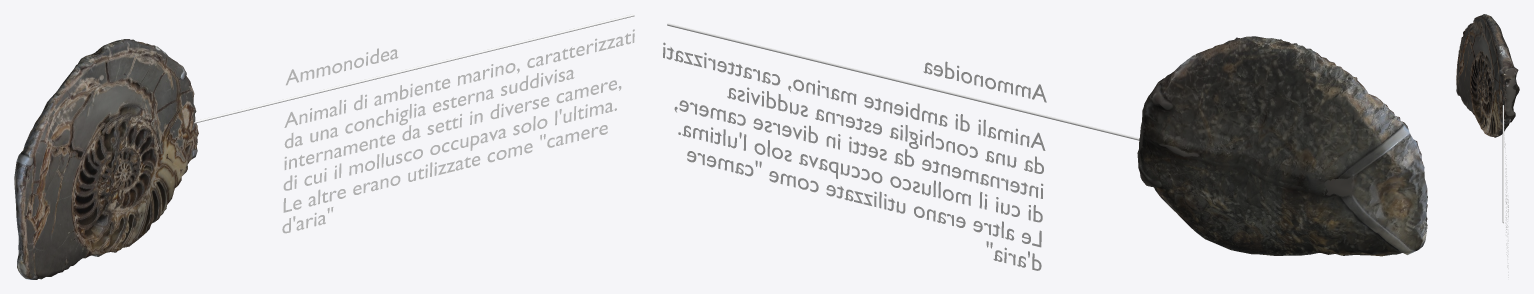
File: Fossile1.gltf
The picture shows the model from 3 angles, left to right: view 1: azimuth 30°, elevation 25°; view 2: azimuth 150°, elevation 25°; view 3: azimuth 270°, elevation 25°; orthographic projection. The views are drawn at different scales.
Visible parts, largest first — view 1: fossil08, Text, riga; view 2: fossil08, Text, riga; view 3: fossil08, riga, Text.
Part boxes in pixels (x1,y1,x2,y2): fossil08: (14,39,198,279); Text: (282,29,634,233); riga: (194,14,634,123); fossil08: (1137,36,1427,256); Text: (663,42,1046,270); riga: (667,23,1139,140); fossil08: (1456,14,1519,137); riga: (1502,105,1503,223); Text: (1504,122,1508,277).
Bounding box in the file's own units: 6.33 × 2.28 × 0.9717.
2 materials, 1 textured.
